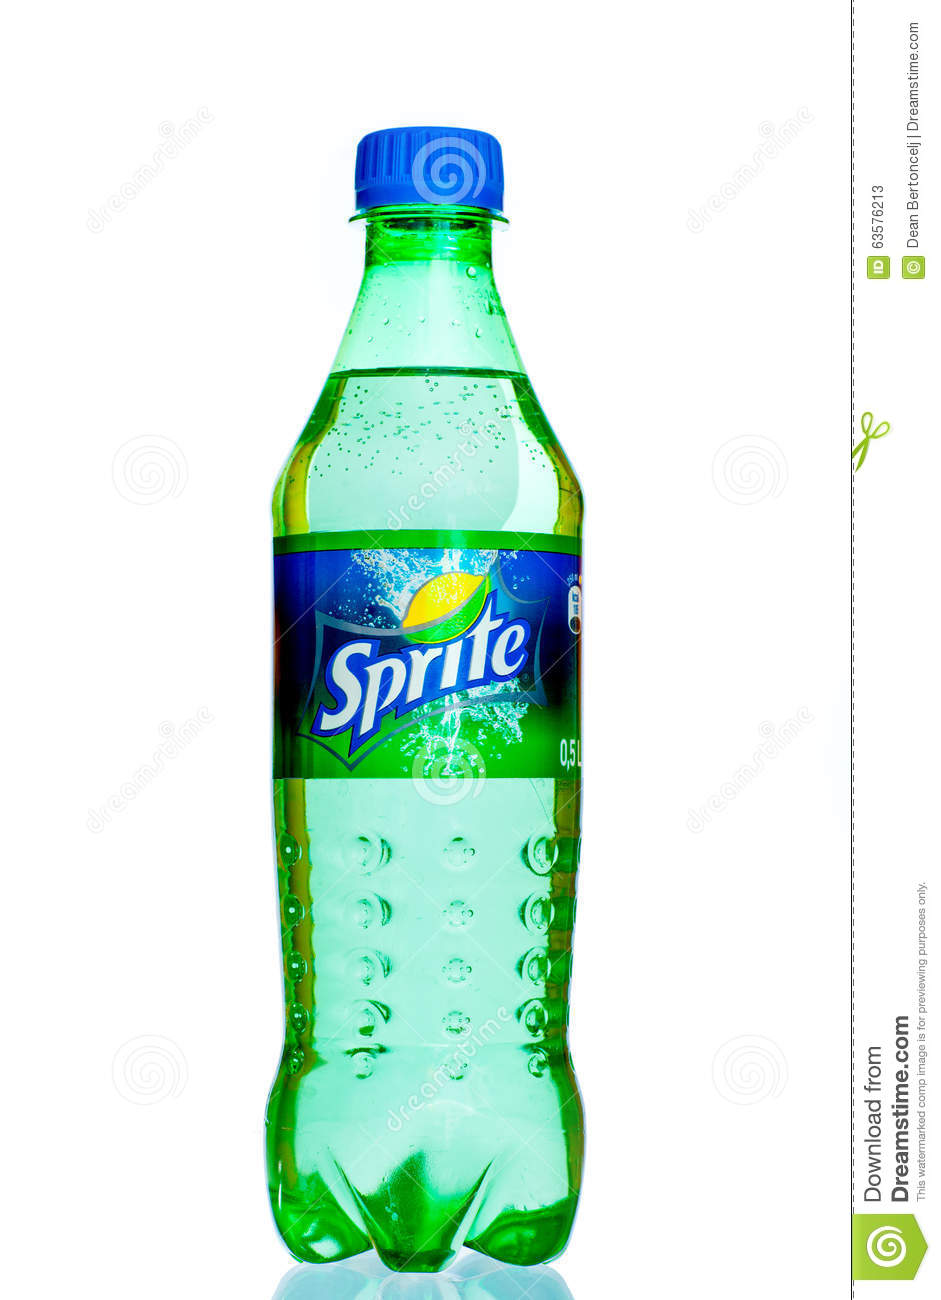Sprite: (225, 109, 610, 1298)
